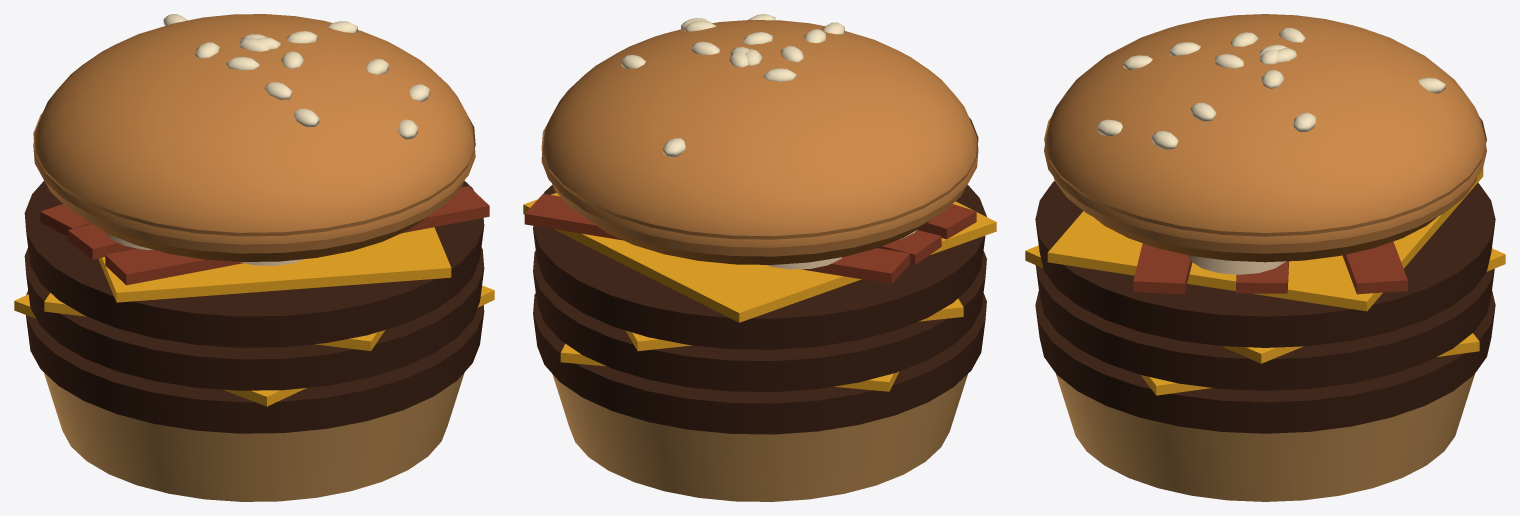
Rendered from burger-triple.glb.
3 renders of one model, left to right at view 1: azimuth 30°, elevation 25°; view 2: azimuth 150°, elevation 25°; view 3: azimuth 270°, elevation 25°, orthographic.
Bounding box in the file's own units: 0.1796 × 0.155 × 0.1796.
